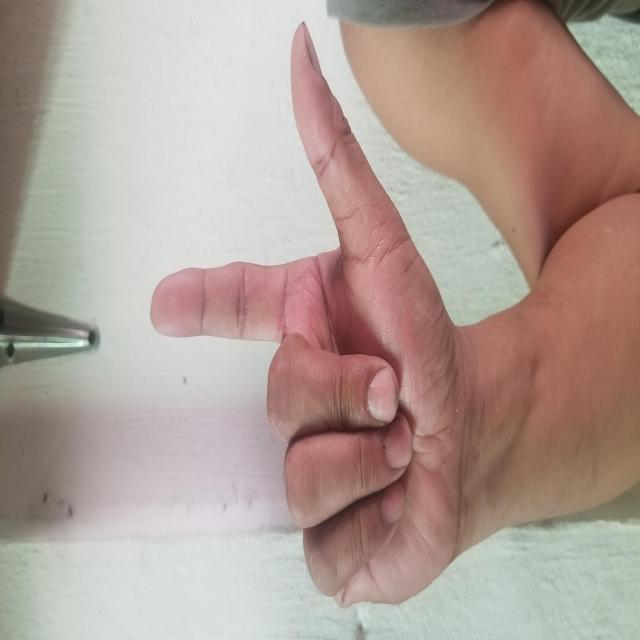L: (33, 152, 618, 466)
